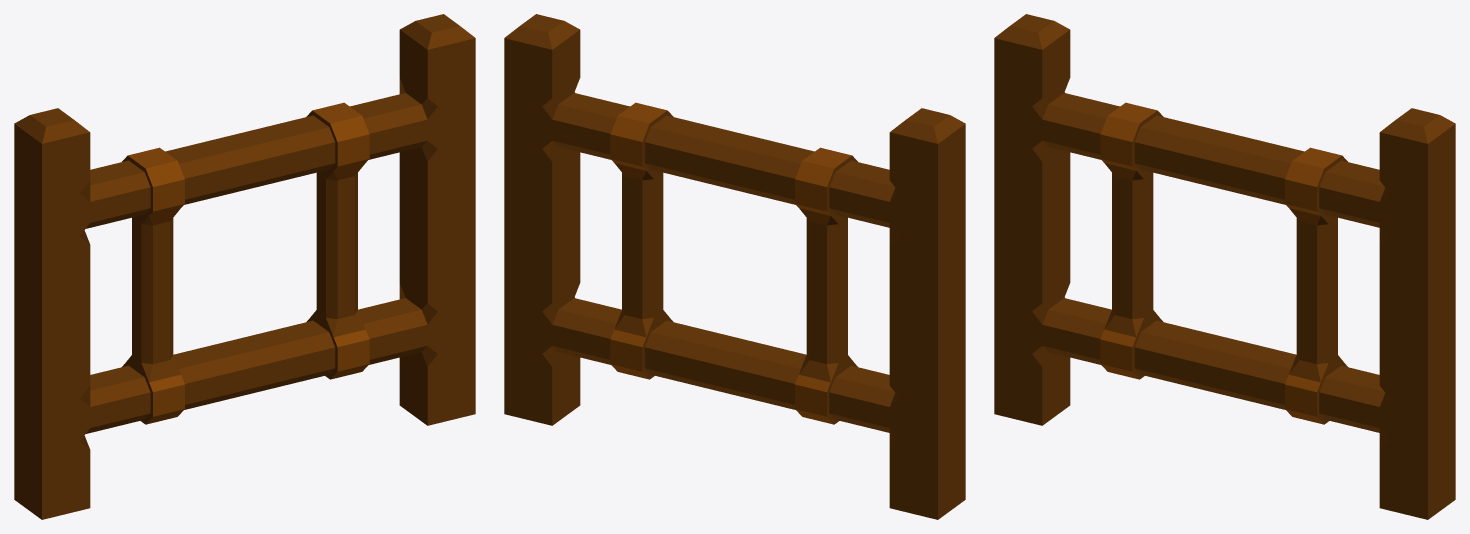
Rendered from Fence_01.fbx.
The picture shows the model from 3 angles, left to right: view 1: azimuth 30°, elevation 25°; view 2: azimuth 150°, elevation 25°; view 3: azimuth 330°, elevation 25°; orthographic projection.
Visible parts, largest first — view 1: Fence_01; view 2: Fence_01; view 3: Fence_01.
Part boxes in pixels (x1,y1,x2,y2): Fence_01: (14, 14, 475, 519); Fence_01: (504, 14, 965, 519); Fence_01: (994, 14, 1455, 519).
Size of the model in its own units: 160 by 136 by 20.76.
